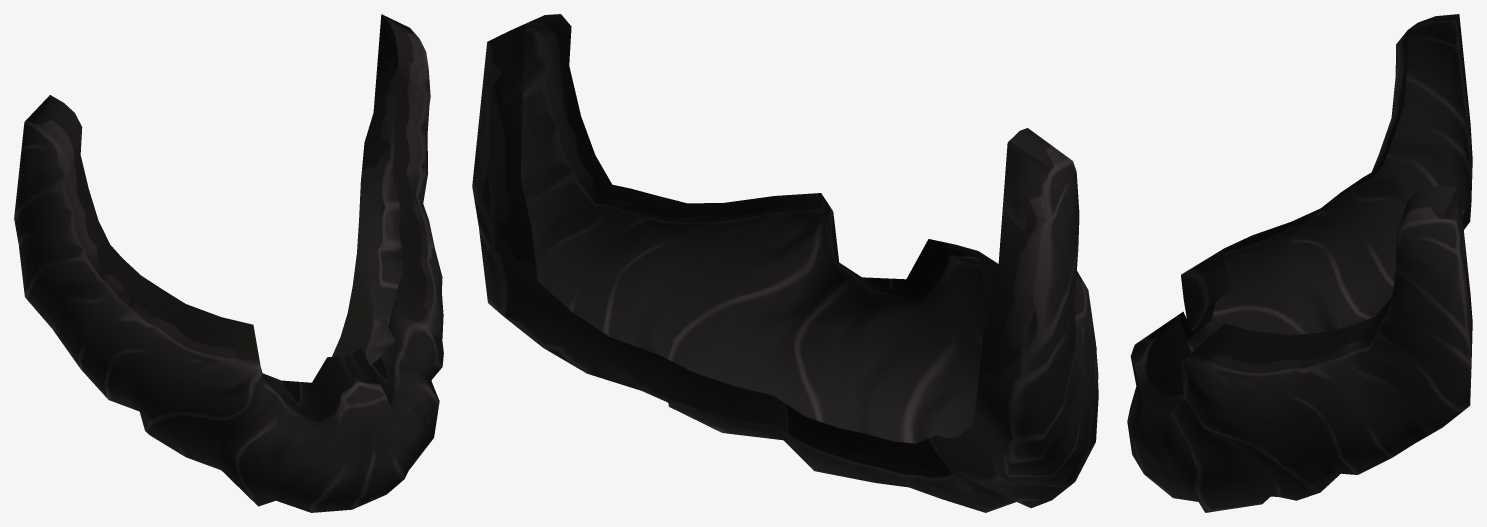
Rendered from beard10.fbx.
3 views of the same model, side by side, from view 1: azimuth 30°, elevation 25°; view 2: azimuth 150°, elevation 25°; view 3: azimuth 270°, elevation 25° (orthographic). The views are drawn at different scales.
Parts seen in each view (by area): view 1: beard10; view 2: beard10; view 3: beard10.
Part boxes in pixels (bbox=[...]): beard10: bbox=[14, 14, 443, 512]; beard10: bbox=[472, 14, 1098, 512]; beard10: bbox=[1127, 14, 1472, 512].
Size of the model in its own units: 14.66 by 12.76 by 10.18.
